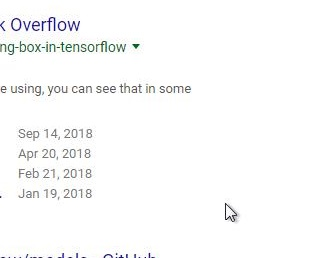cursor: (222, 201, 238, 224)
